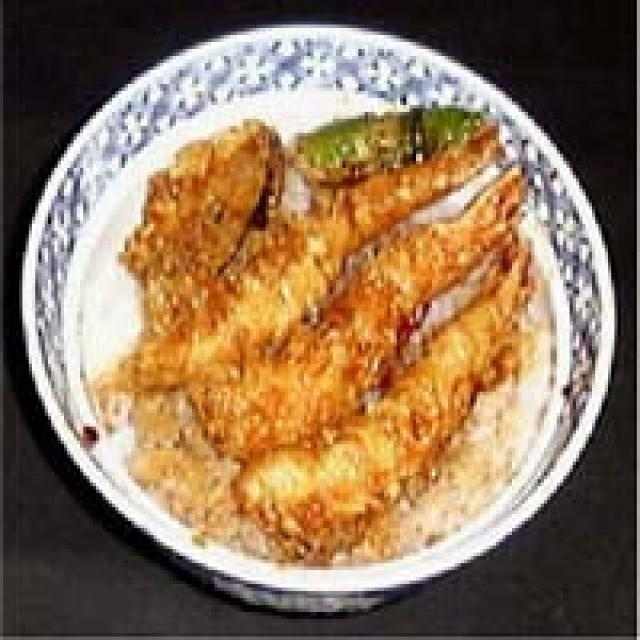熟制海鲜: (6, 0, 621, 609)
